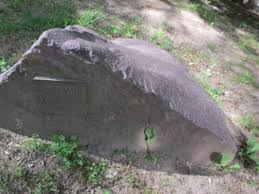obstacle: (0, 25, 236, 174)
